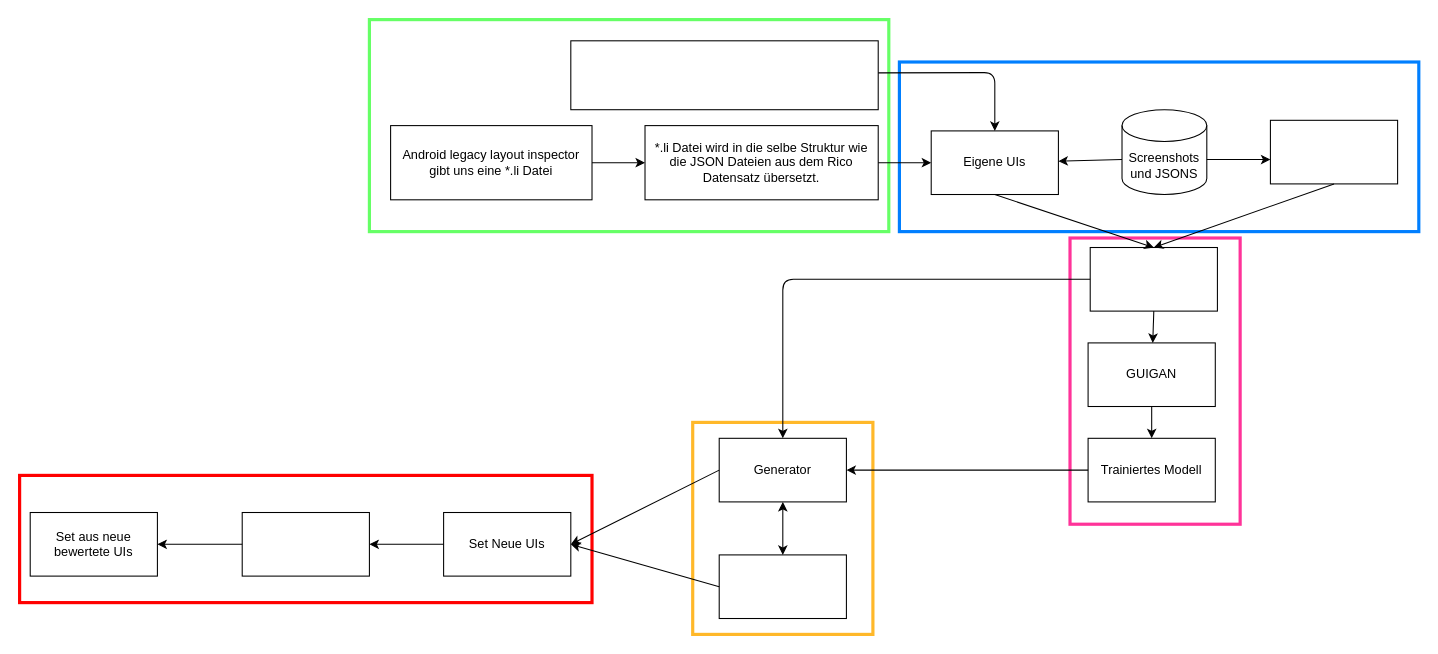
Image size: 1438x654. Some labels were removed from this diagram. The centre of each missing label's shape, as x and y in pixels:
"Diskriminator" goes at [782,586].
"Durch die Metriken bewerten lassen und ausgeben" goes at [305,543].
"Rico UIs" goes at [1333,151].
"Screenshot von der UI. Dimension: 540 x 960" goes at [724,75].
"Set aus UIs" goes at [1153,278].
